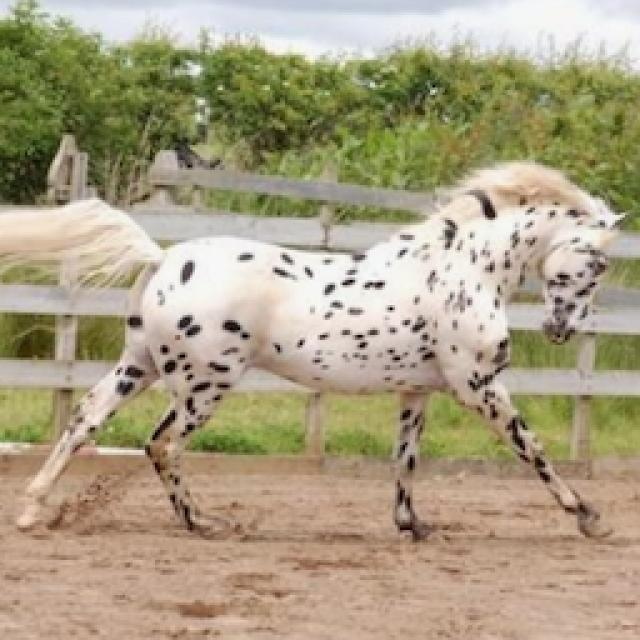Horse: (0, 152, 635, 550)
